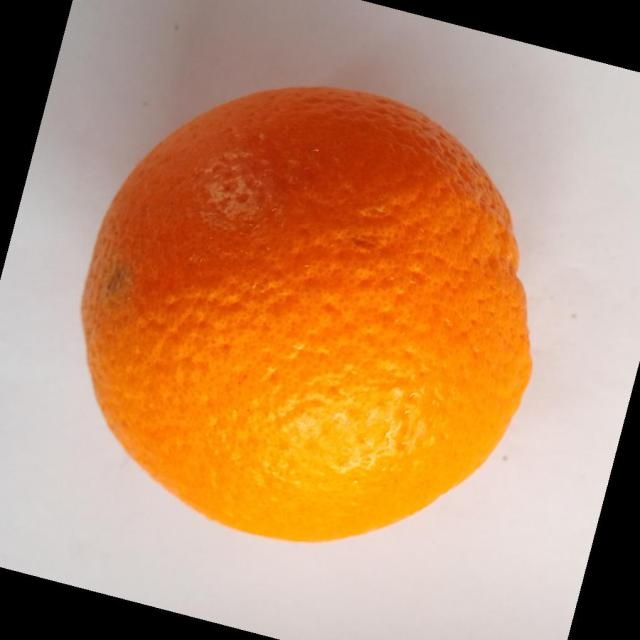agrume: (80, 84, 533, 543)
